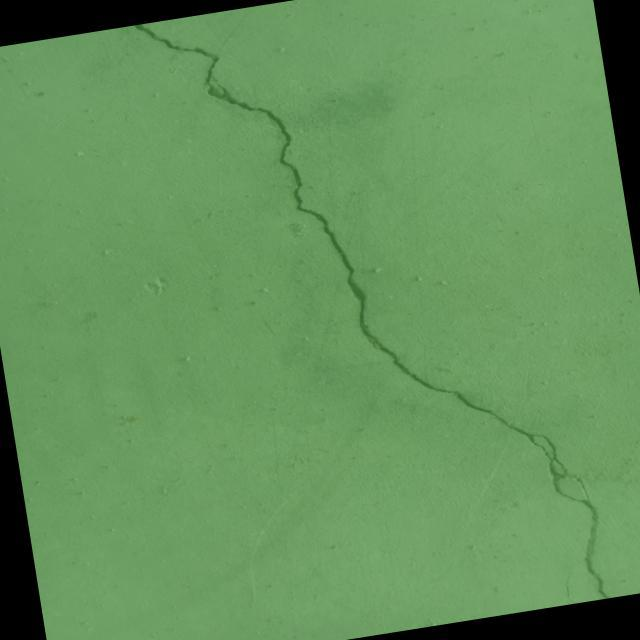crack: (133, 0, 612, 640), (562, 562, 588, 605)
